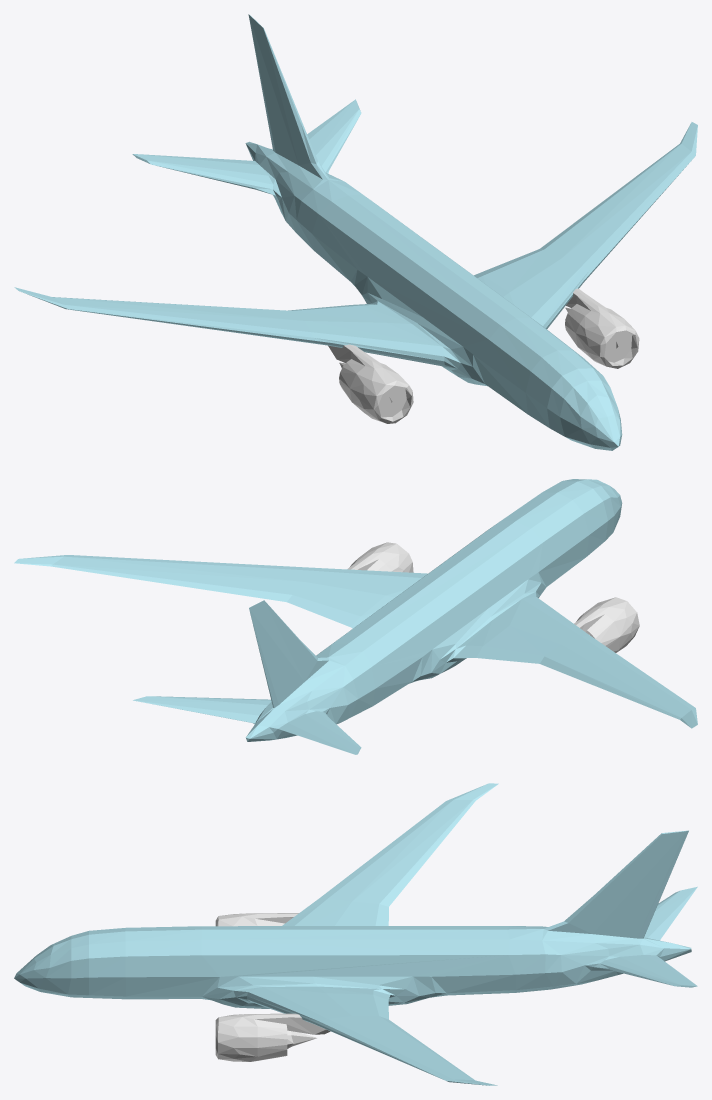
3 views of the same model, one above another, from view 1: azimuth 30°, elevation 25°; view 2: azimuth 150°, elevation 25°; view 3: azimuth 270°, elevation 25° (orthographic). The views are drawn at different scales.
Parts seen in each view (by area): view 1: Boeing_787_8.obj.2; view 2: Boeing_787_8.obj.2; view 3: Boeing_787_8.obj.2.
Part boxes in pixels (bbox=[...]): Boeing_787_8.obj.2: bbox=[14, 14, 697, 450]; Boeing_787_8.obj.2: bbox=[14, 479, 697, 754]; Boeing_787_8.obj.2: bbox=[14, 783, 697, 1085].
Bounding box in the file's own units: 562 × 155 × 537.
